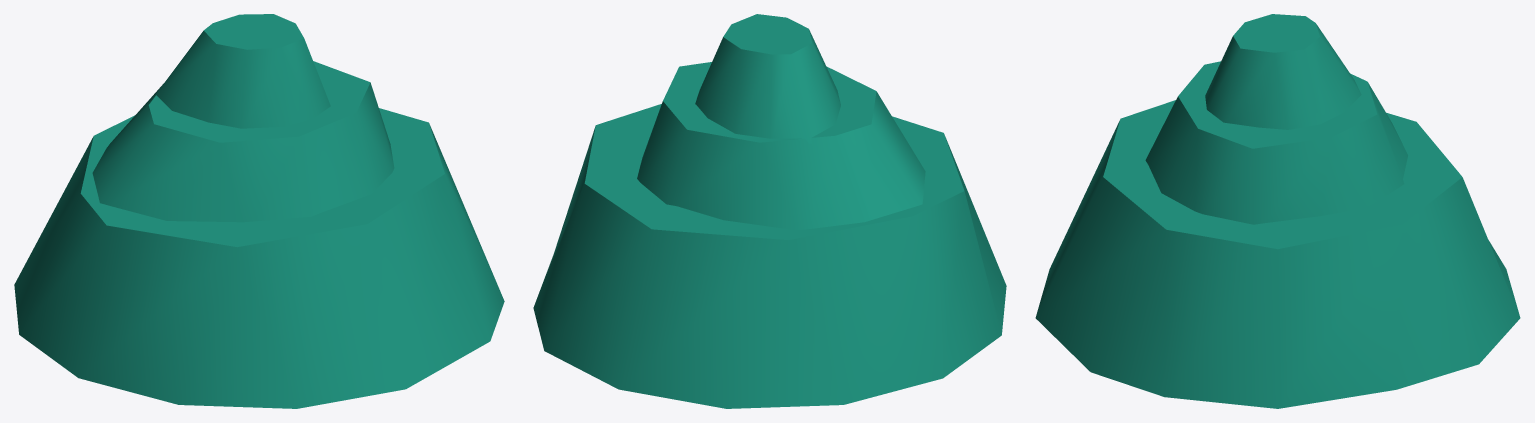
The model's file is Mountain002.fbx.
3 views of the same model, side by side, from view 1: azimuth 30°, elevation 25°; view 2: azimuth 150°, elevation 25°; view 3: azimuth 270°, elevation 25° (orthographic).
Parts seen in each view (by area): view 1: Cylinder059; view 2: Cylinder059; view 3: Cylinder059.
Part boxes in pixels (<box>): Cylinder059: <box>14,14,504,408</box>; Cylinder059: <box>533,14,1006,408</box>; Cylinder059: <box>1035,14,1520,408</box>.
Size of the model in its own units: 142 by 87.97 by 143.
Materials: 1 (1 with a texture image).
